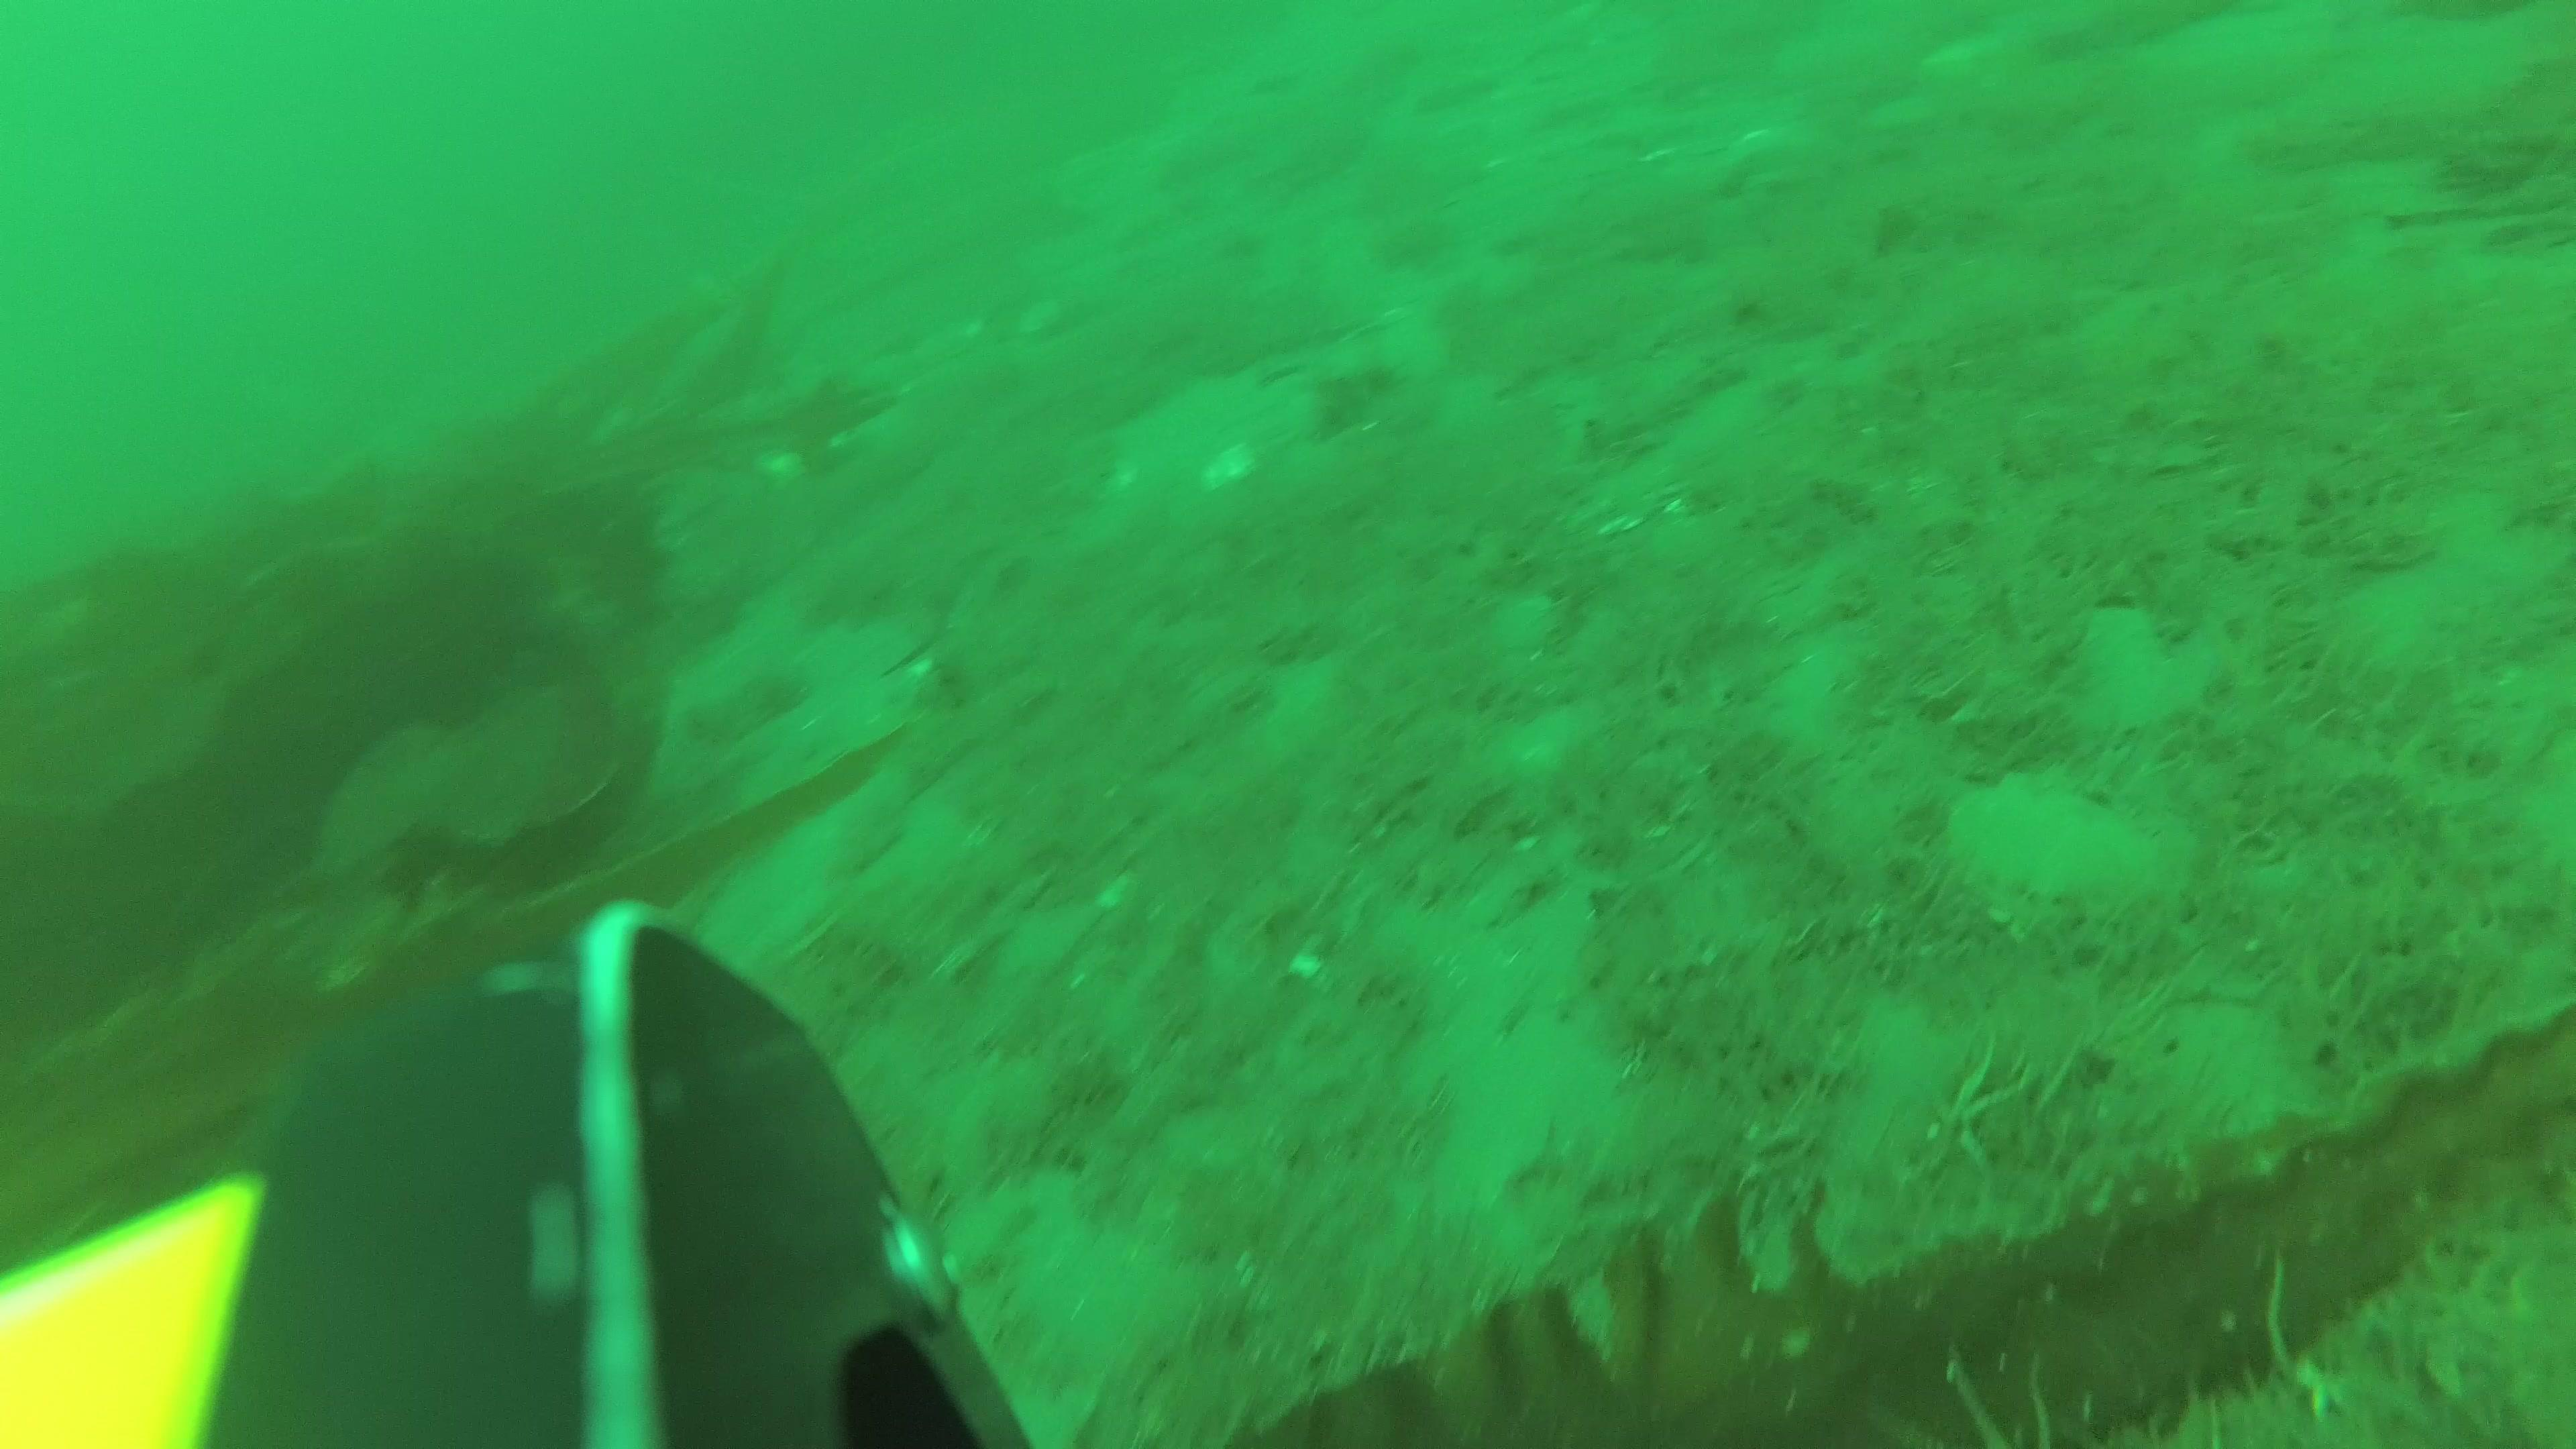scallop: (1948, 777, 2139, 909), (2061, 600, 2206, 743), (1196, 439, 1260, 495)
